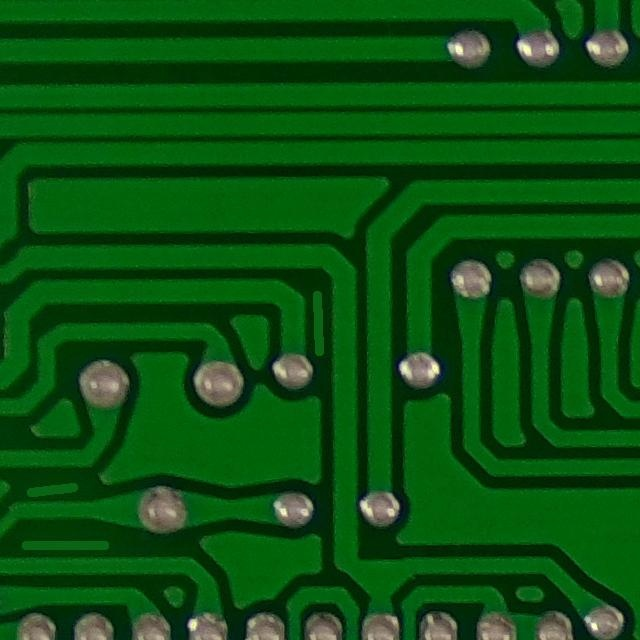spurious_copper: (299, 278, 341, 363)
